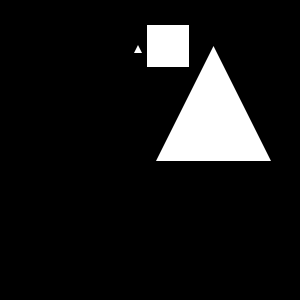circle: (147, 25, 189, 67)
triangle: (156, 46, 271, 161), (134, 45, 142, 53)
